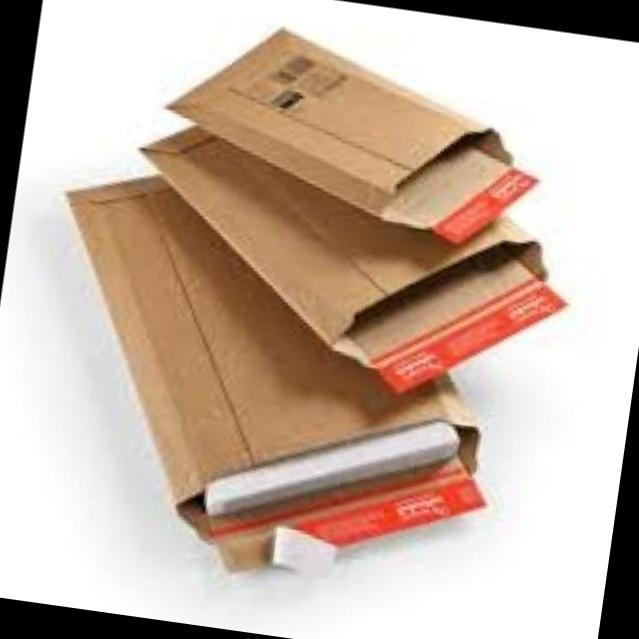cardboard paper: (68, 28, 565, 564), (69, 175, 476, 499), (144, 124, 528, 342), (170, 28, 536, 241)
